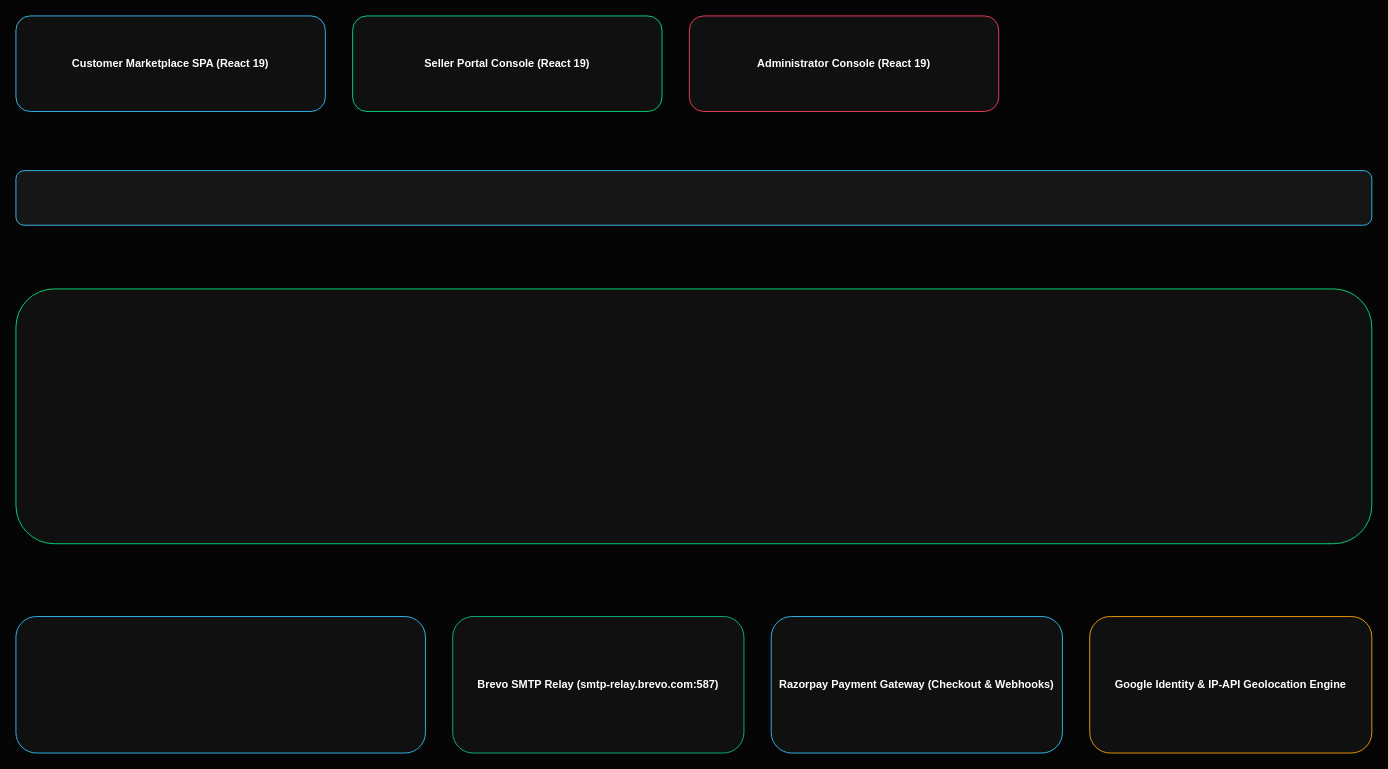
The diagram is 1388 pixels wide and 769 high, and some of its shapes have lost their labels. Here are the shapes that lost their labels. From the top down, the centre of each, then its label:
At pixel 693 197: "Render Cloud Edge & Reverse Proxy".
At pixel 693 416: "Spring Boot 3.4.3 Core Backend (Security, REST, Domain Services)".
At pixel 220 684: "PostgreSQL Database (Flyway V1..V22, users, user_login_events)".
